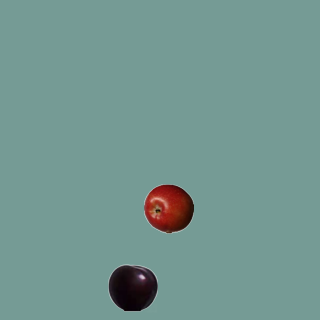Apple Braeburn: (143, 183, 193, 233)
Cherry Wax Black: (107, 262, 157, 312)
